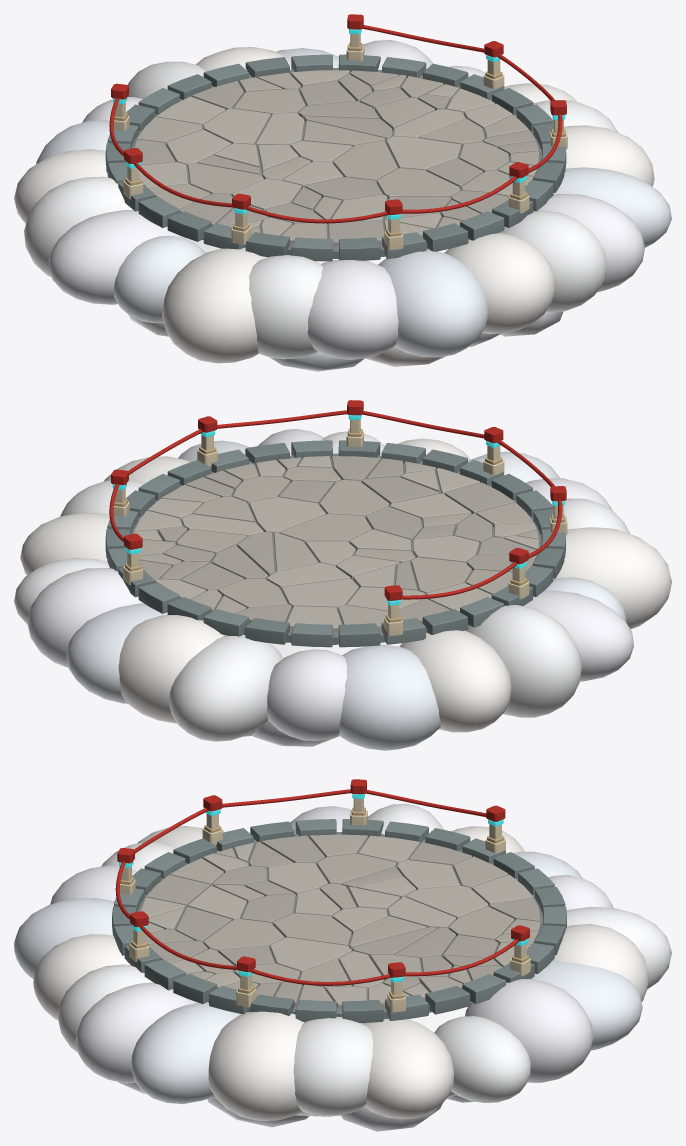
The model's file is cloud-plaza.glb.
3 views of the same model, one above another, from view 1: azimuth 30°, elevation 25°; view 2: azimuth 150°, elevation 25°; view 3: azimuth 270°, elevation 25° (orthographic).
Parts seen in each view (by area): view 1: Combined_cloud_warm, Combined_cloud_lilac, Combined_cloud_cool, Combined_cloud_white, Combined_stone_2, Combined_stone_1, Combined_stone_3, Combined_rim_2, Combined_rim_1, Combined_red, Combined_cream, Plaza_Walkable_Base (+1 smaller); view 2: Combined_cloud_warm, Combined_cloud_white, Combined_stone_2, Combined_cloud_lilac, Combined_stone_1, Combined_cloud_cool, Combined_stone_3, Combined_rim_1, Combined_rim_2, Combined_red, Combined_cream, Plaza_Walkable_Base (+1 smaller); view 3: Combined_cloud_warm, Combined_cloud_white, Combined_stone_2, Combined_cloud_lilac, Combined_cloud_cool, Combined_stone_1, Combined_stone_3, Combined_rim_2, Combined_rim_1, Combined_red, Combined_cream, Plaza_Walkable_Base (+1 smaller).
Part boxes in pixels (left/top/right/bottom): Combined_cloud_warm: left=14, top=47, right=654, bottom=366; Combined_cloud_lilac: left=48, top=40, right=644, bottom=359; Combined_cloud_cool: left=36, top=48, right=671, bottom=371; Combined_cloud_white: left=24, top=61, right=618, bottom=359; Combined_stone_2: left=139, top=70, right=537, bottom=237; Combined_stone_1: left=137, top=72, right=539, bottom=243; Combined_stone_3: left=134, top=70, right=538, bottom=245; Combined_rim_2: left=105, top=54, right=564, bottom=260; Combined_rim_1: left=107, top=54, right=566, bottom=261; Combined_red: left=109, top=14, right=566, bottom=223; Combined_cream: left=113, top=34, right=567, bottom=250; Plaza_Walkable_Base: left=131, top=68, right=541, bottom=258; Combined_cloud_warm: left=20, top=438, right=671, bottom=732; Combined_cloud_white: left=14, top=431, right=629, bottom=741; Combined_stone_2: left=133, top=456, right=539, bottom=631; Combined_cloud_lilac: left=27, top=429, right=633, bottom=746; Combined_stone_1: left=139, top=457, right=538, bottom=629; Combined_cloud_cool: left=66, top=440, right=626, bottom=750; Combined_stone_3: left=139, top=456, right=538, bottom=622; Combined_rim_1: left=107, top=440, right=565, bottom=647; Combined_rim_2: left=105, top=440, right=564, bottom=647; Combined_red: left=109, top=400, right=566, bottom=600; Combined_cream: left=113, top=419, right=567, bottom=636; Plaza_Walkable_Base: left=131, top=453, right=541, bottom=644; Combined_cloud_warm: left=33, top=826, right=648, bottom=1120; Combined_cloud_white: left=58, top=803, right=671, bottom=1116; Combined_stone_2: left=140, top=835, right=532, bottom=1007; Combined_cloud_lilac: left=50, top=806, right=613, bottom=1131; Combined_cloud_cool: left=14, top=833, right=642, bottom=1127; Combined_stone_1: left=145, top=834, right=540, bottom=1002; Combined_stone_3: left=145, top=835, right=540, bottom=1005; Combined_rim_2: left=112, top=819, right=565, bottom=1023; Combined_rim_1: left=114, top=819, right=566, bottom=1022; Combined_red: left=115, top=779, right=529, bottom=985; Combined_cream: left=119, top=798, right=530, bottom=1012; Plaza_Walkable_Base: left=137, top=832, right=542, bottom=1019.
Bounding box in the file's own units: 13.7 × 4.47 × 14.
